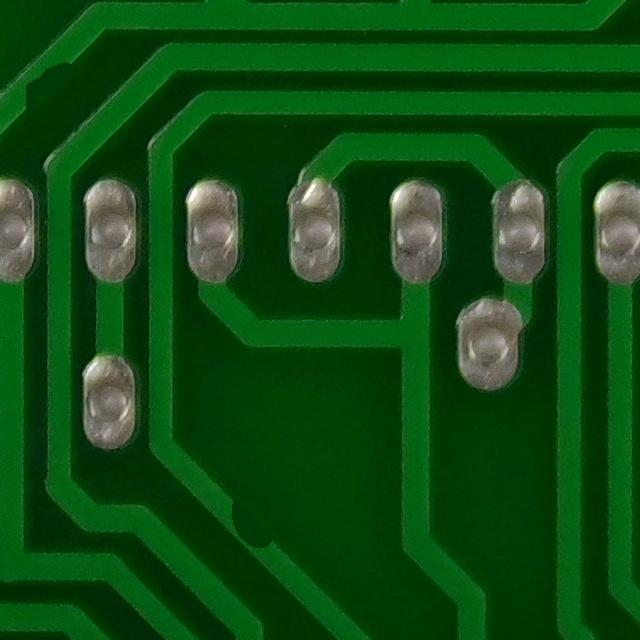mouse_bite: (203, 490, 300, 560), (0, 47, 82, 116)
